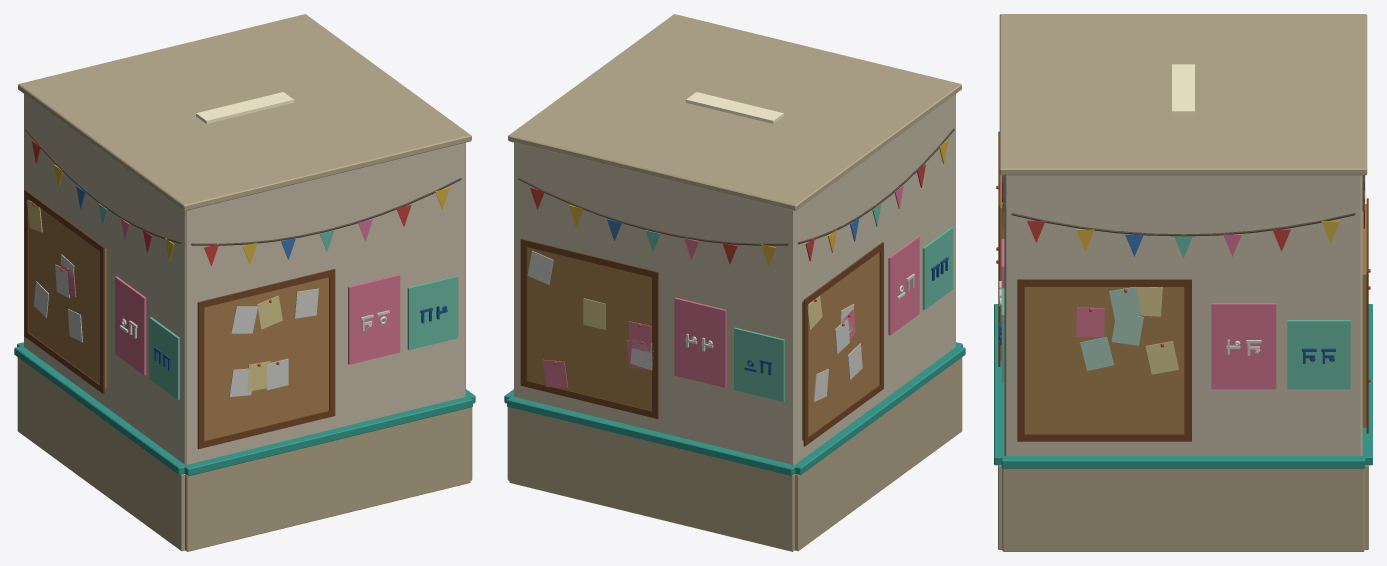
Rendered from wall_c.fbx.
The picture shows the model from 3 angles, left to right: view 1: azimuth 30°, elevation 25°; view 2: azimuth 150°, elevation 25°; view 3: azimuth 270°, elevation 25°; orthographic projection. The views are drawn at different scales.
Visible parts, largest first — view 1: wall_c; view 2: wall_c; view 3: wall_c.
Part boxes in pixels (x1=…): wall_c: x1=14, y1=14, x2=475, y2=551; wall_c: x1=504, y1=14, x2=965, y2=551; wall_c: x1=994, y1=14, x2=1372, y2=551.
Bounding box in the file's own units: 4 × 4.5 × 4.
